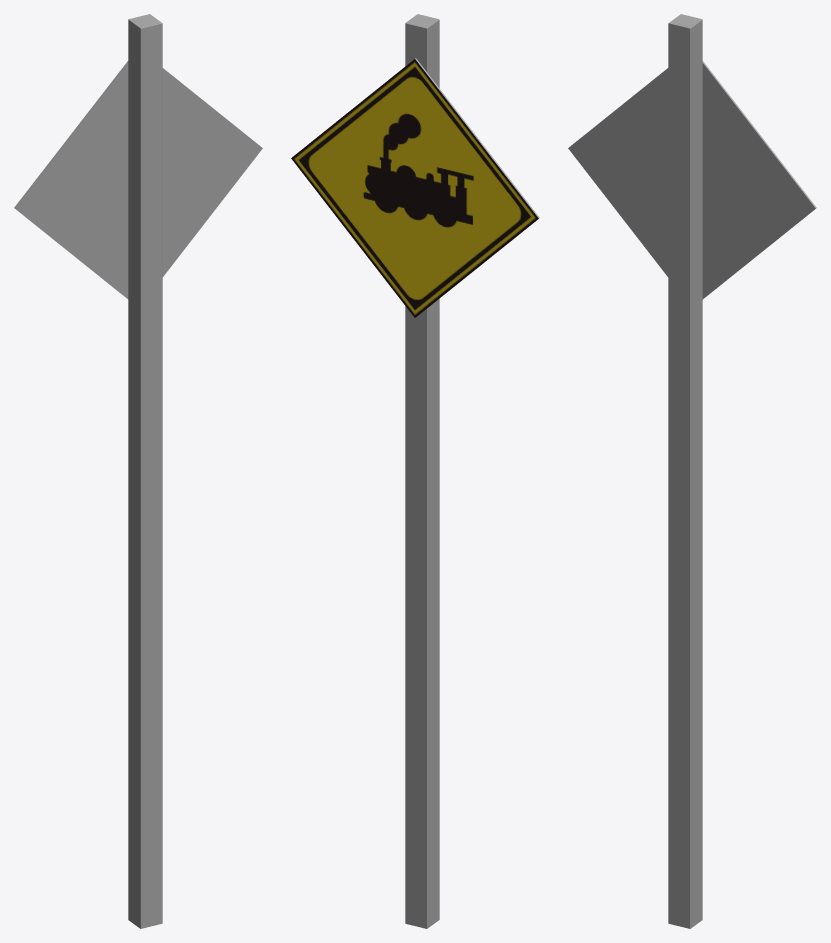
The model's file is 踏切看板.fbx.
3 views of the same model, side by side, from view 1: azimuth 30°, elevation 25°; view 2: azimuth 150°, elevation 25°; view 3: azimuth 330°, elevation 25° (orthographic).
Visible parts, largest first — view 1: 道路標識; view 2: 道路標識; view 3: 道路標識.
Part boxes in pixels (x1,y1,x2,y2): 道路標識: (14, 14, 262, 928); 道路標識: (291, 14, 539, 928); 道路標識: (568, 14, 816, 928).
Size of the model in its own units: 83.13 by 289 by 7.94.
2 materials, 1 textured.
